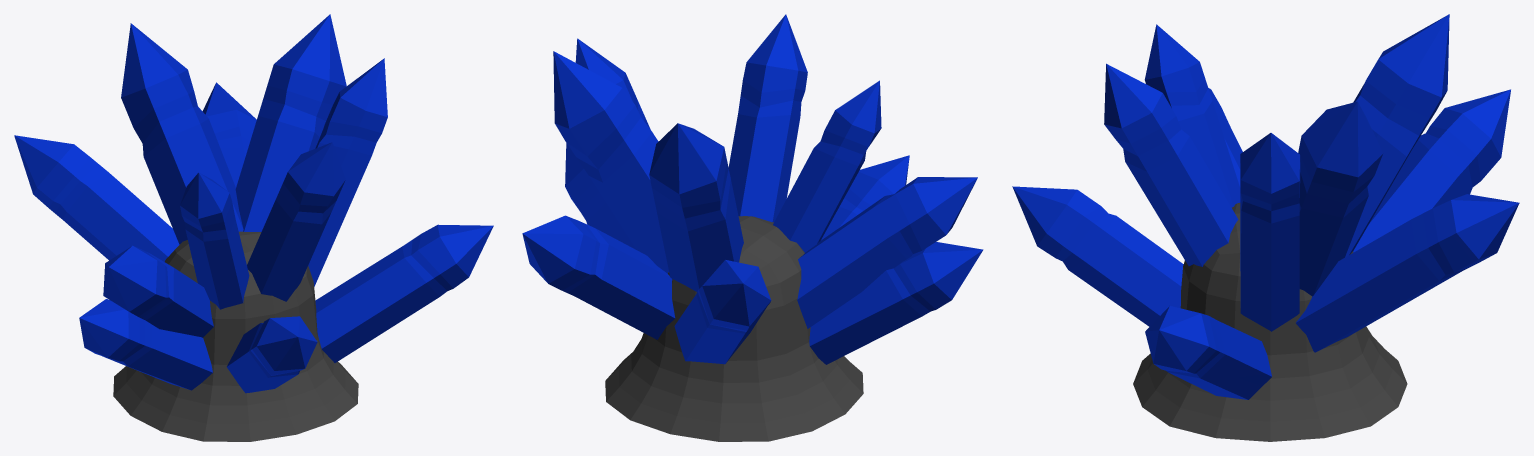
File: mine2.glb
3 renders of one model, left to right at view 1: azimuth 30°, elevation 25°; view 2: azimuth 150°, elevation 25°; view 3: azimuth 270°, elevation 25°, orthographic. The views are drawn at different scales.
Parts seen in each view (by area): view 1: Mineral.002; view 2: Mineral.002; view 3: Mineral.002.
Part boxes in pixels (<box>): Mineral.002: <box>14,14,493,441</box>; Mineral.002: <box>522,14,983,441</box>; Mineral.002: <box>1012,14,1519,441</box>.
Bounding box in the file's own units: 3.04 × 2.26 × 2.92.
